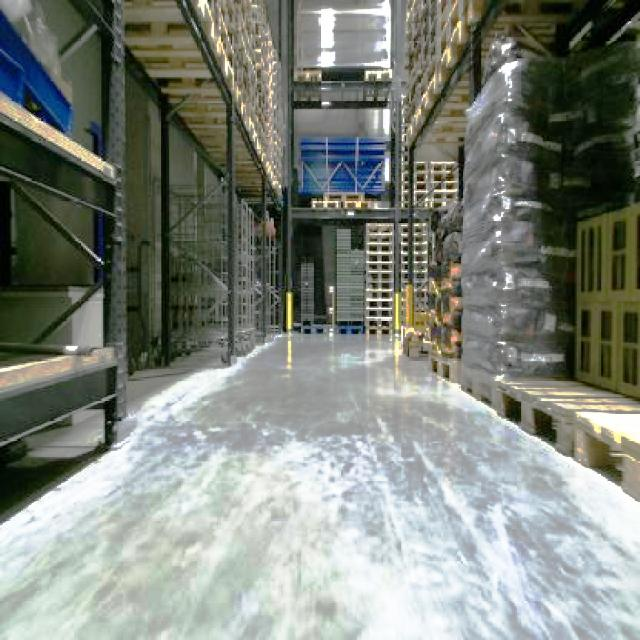ground: (0, 328, 638, 638)
pallet: (398, 0, 638, 525), (0, 52, 125, 532), (119, 0, 294, 220), (489, 371, 638, 523), (0, 338, 122, 477), (571, 194, 638, 406), (363, 220, 394, 335), (411, 158, 458, 209), (301, 184, 376, 211)
